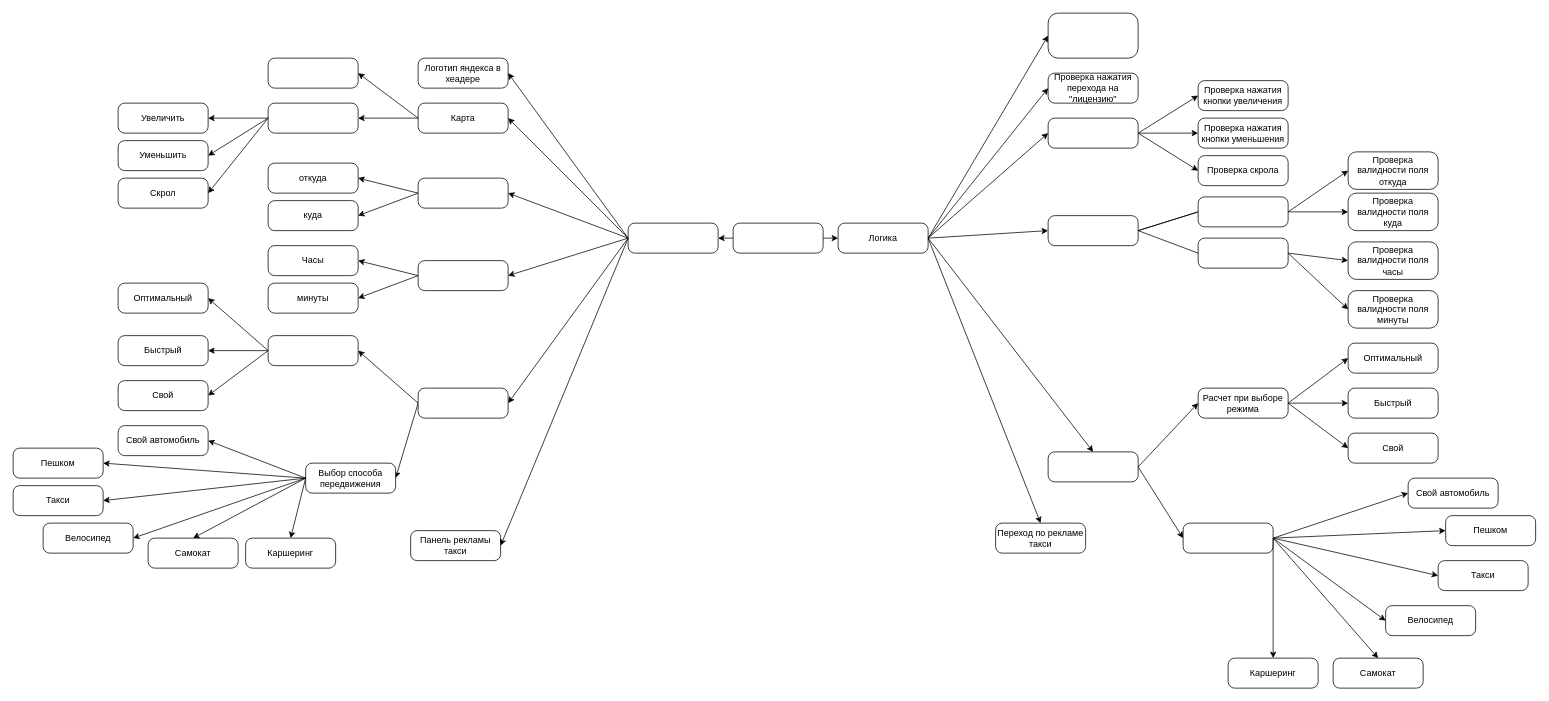
Image size: 1549x701. Some labels were removed from this diagram. The shapes that lost their labels are listed below. From the top down, each one's box as (x1, y1, x2, y2) in pixels, then its label:
(1047, 12, 1138, 58): Проверка перехода на Яндекс при нажатии на логотип в хеадере
(267, 57, 358, 88): Сылка условий пользования
(267, 102, 358, 133): Кнопки масштабирования
(1047, 117, 1138, 148): Проверка маштабируемости карты
(417, 177, 508, 208): Панель выбора адреса
(1197, 196, 1288, 227): Проверка валидности адресов
(627, 222, 718, 253): Интерфейс
(732, 222, 823, 253): Яндекс Маршруты
(1047, 215, 1138, 246): Проверка правильности ввода данных в поля
(1197, 237, 1288, 268): Проверка валидности времени
(417, 260, 508, 291): Панель выбора времени
(267, 335, 358, 366): Выбор режима
(417, 387, 508, 418): Панель выбора вида транспорта и режима
(1047, 451, 1138, 482): Расчёт времени и стоимости
(1182, 522, 1273, 553): Расчет при выборе способа
